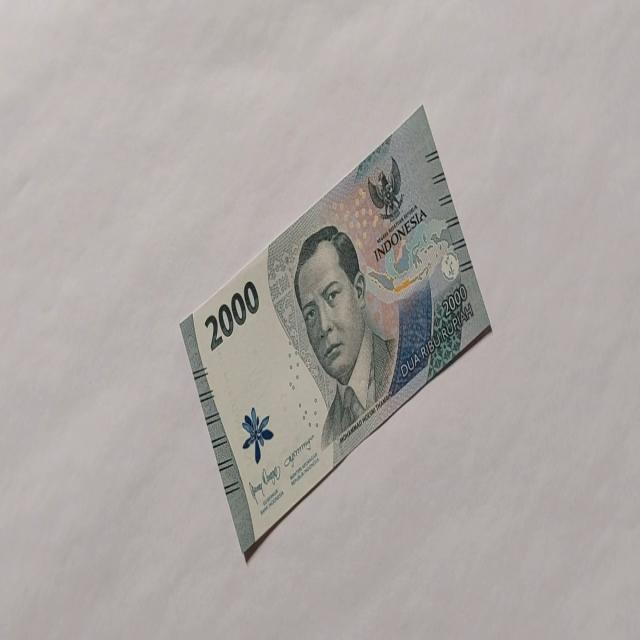dua ribu rupiah: (178, 103, 492, 560), (292, 223, 398, 450), (203, 278, 259, 352)
